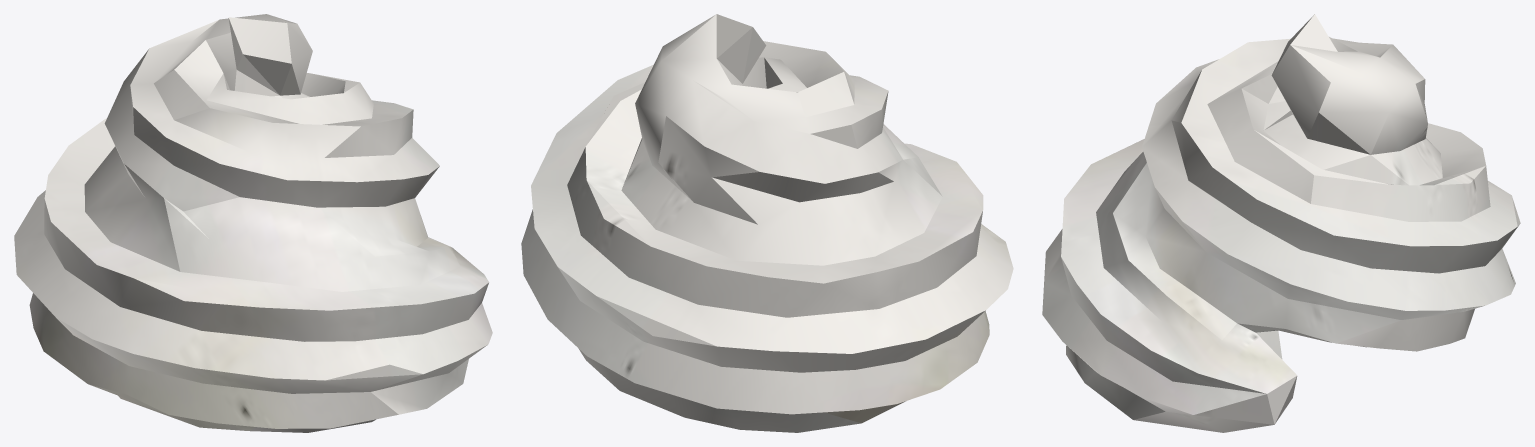
Rendered from Sahne_Texturiert2.fbx.
3 views of the same model, side by side, from view 1: azimuth 30°, elevation 25°; view 2: azimuth 150°, elevation 25°; view 3: azimuth 270°, elevation 25° (orthographic). The views are drawn at different scales.
Visible parts, largest first — view 1: Sahne; view 2: Sahne; view 3: Sahne.
Part boxes in pixels (x1=…): Sahne: x1=14, y1=14, x2=492, y2=432; Sahne: x1=521, y1=14, x2=1013, y2=432; Sahne: x1=1042, y1=14, x2=1520, y2=432.
Bounding box in the file's own units: 508 × 432 × 534.
Materials: 1 (1 with a texture image).
